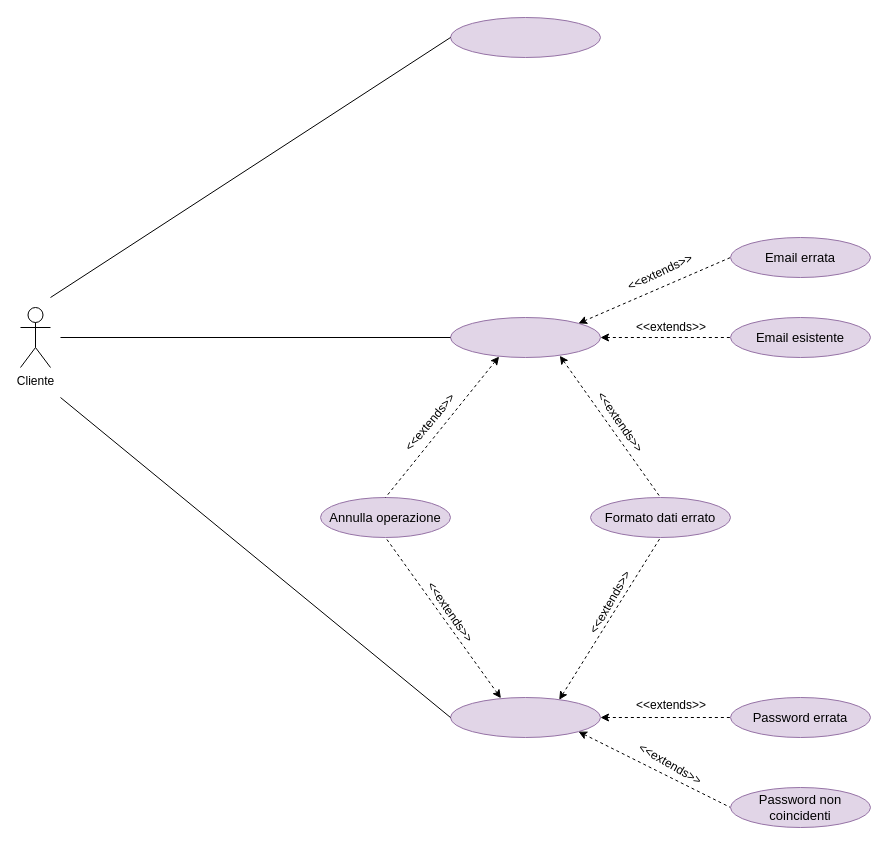
The diagram is 888 pixels wide and 845 high, and some of its shapes have lost their labels. Each missing label, with the box of its shape:
Modifica e-mail: (450, 316, 600, 358)
Mofica password: (450, 696, 600, 738)
Visualizza informazioni: (450, 16, 600, 58)
